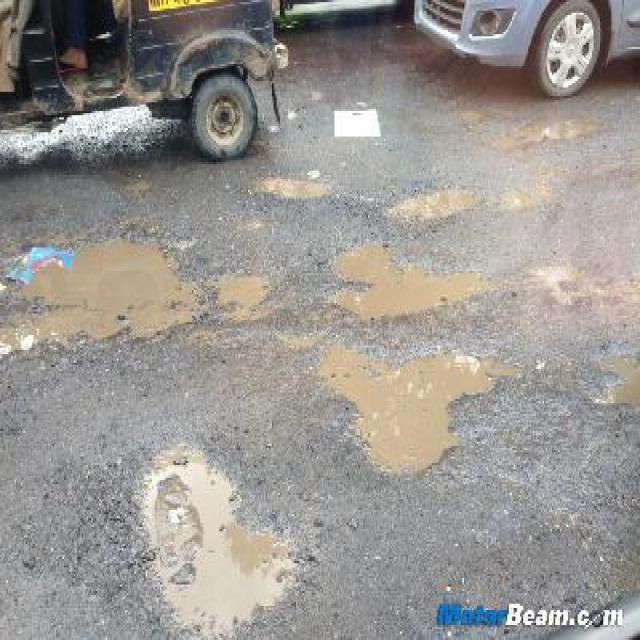Pothole: (124, 428, 305, 637), (1, 221, 209, 362), (312, 332, 501, 484), (324, 236, 497, 319), (390, 178, 483, 223), (211, 263, 277, 321), (589, 347, 640, 415), (254, 170, 336, 204)
